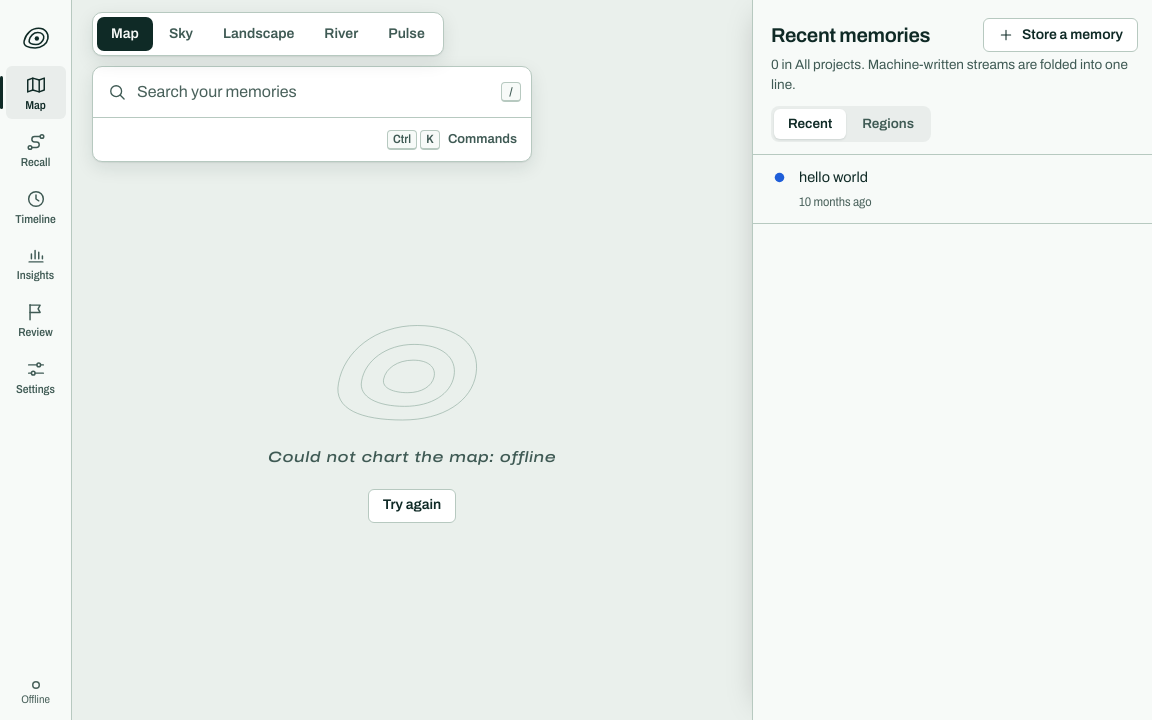
Test: Shell map loading › says a failed map on the map, and charts it again on Try again
This screenshot has width=1152, height=720.
Expected: the text "Could not chart the map: offline" is shown, [268,446,556,468]
Step 1. Click the button "Try again" → (412, 506), box [368,488,456,522]
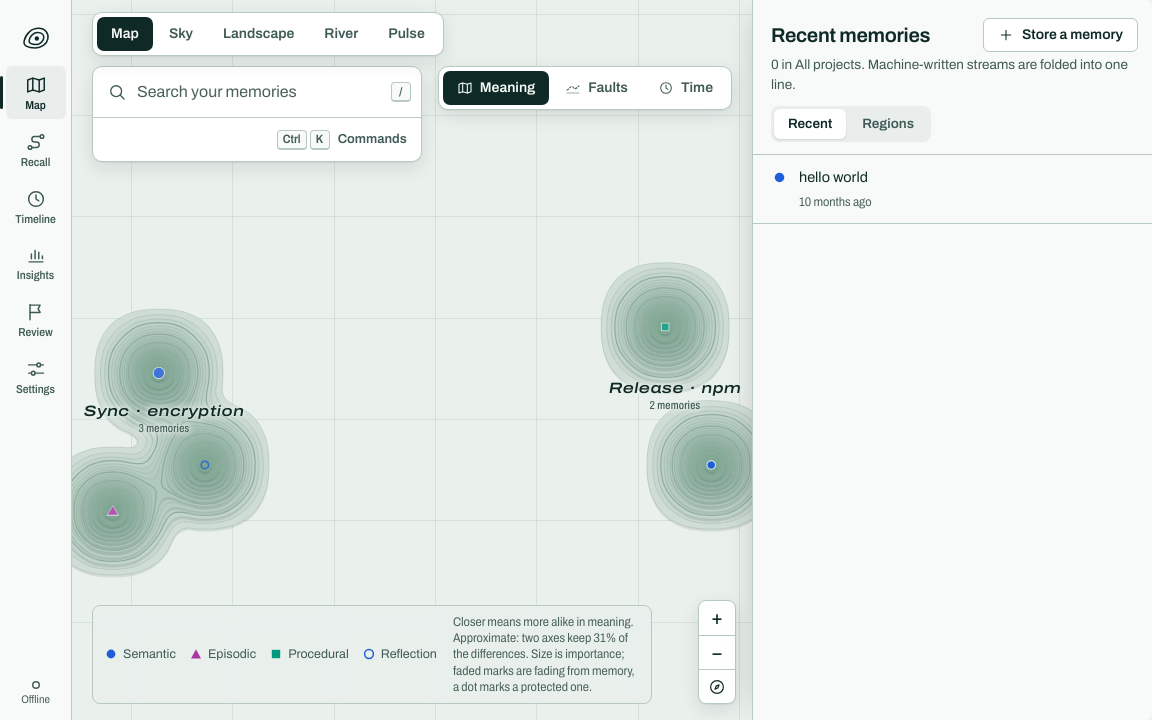
Now the element named "Memory map" is shown
